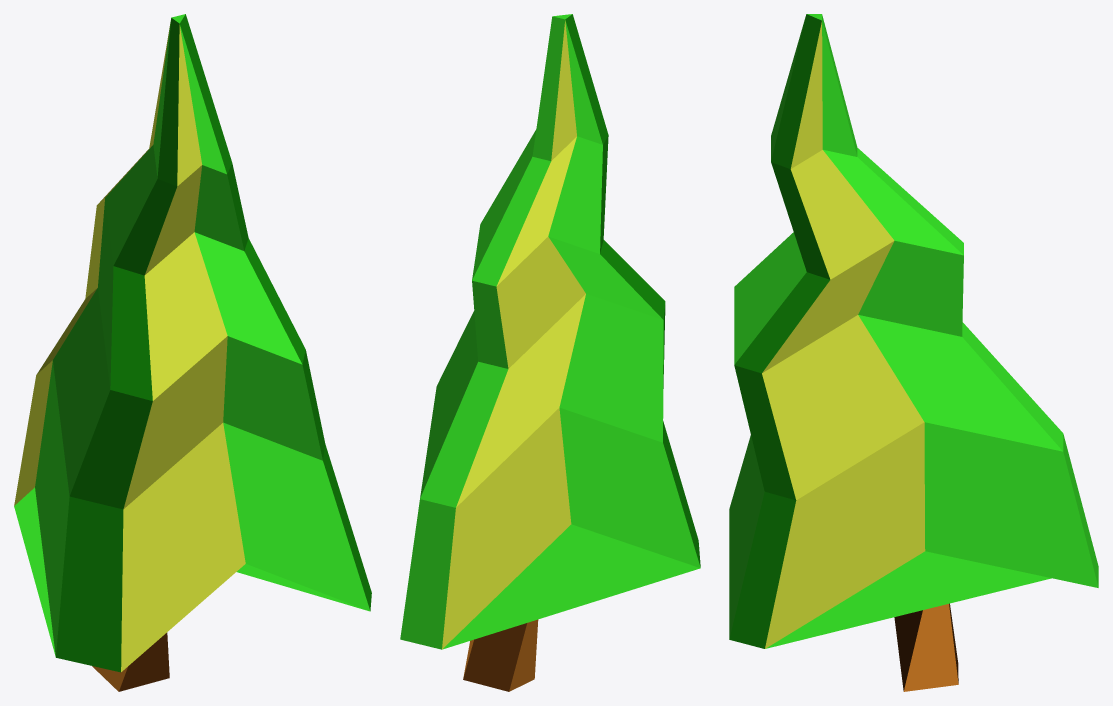
The model's file is trees1.fbx.
The picture shows the model from 3 angles, left to right: view 1: azimuth 30°, elevation 25°; view 2: azimuth 150°, elevation 25°; view 3: azimuth 270°, elevation 25°; orthographic projection. The views are drawn at different scales.
Visible parts, largest first — view 1: Cube.007, Cube.006; view 2: Cube.007, Cube.006; view 3: Cube.007, Cube.006.
Boxes of the visible parts, box(x1,y1,x2,y2) form: Cube.007: box(14, 14, 371, 672); Cube.006: box(92, 632, 169, 691); Cube.007: box(400, 14, 700, 649); Cube.006: box(463, 619, 538, 691); Cube.007: box(729, 14, 1098, 648); Cube.006: box(894, 603, 958, 691).
Bounding box in the file's own units: 1185 × 2625 × 1332.
